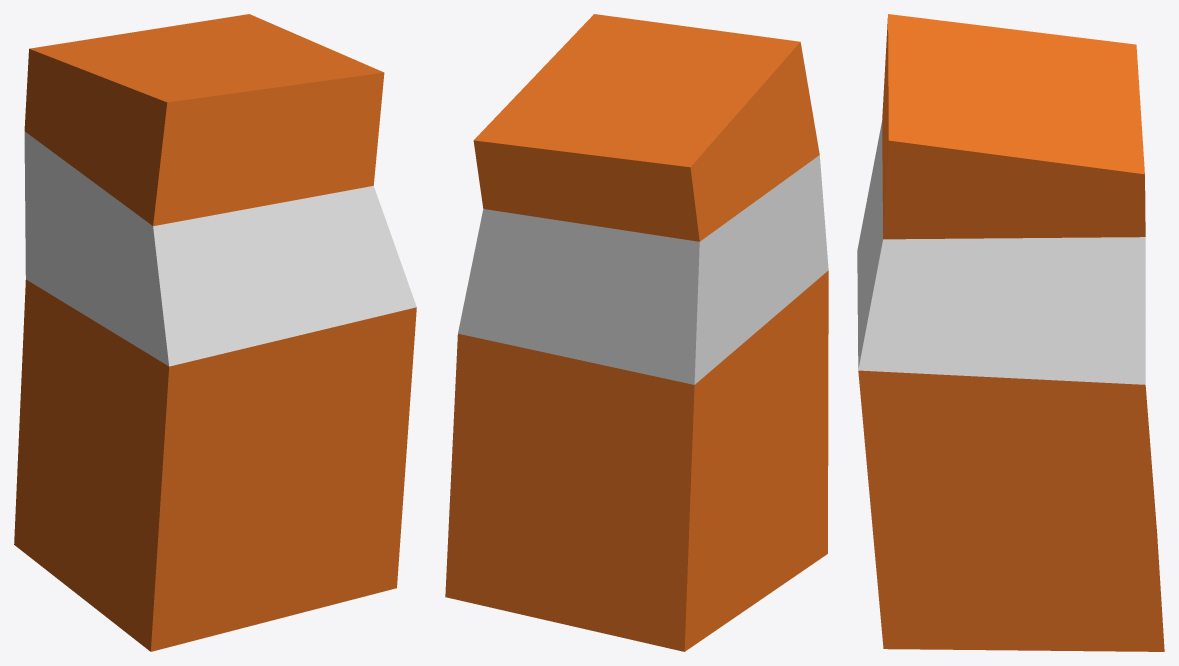
Rendered from DesertRock02.glb.
3 renders of one model, left to right at view 1: azimuth 30°, elevation 25°; view 2: azimuth 150°, elevation 25°; view 3: azimuth 270°, elevation 25°, orthographic. The views are drawn at different scales.
Parts seen in each view (by area): view 1: DesertRock02; view 2: DesertRock02; view 3: DesertRock02.
Part boxes in pixels (left/top/right/bottom): DesertRock02: left=14, top=14, right=416, bottom=651; DesertRock02: left=445, top=14, right=828, bottom=651; DesertRock02: left=857, top=14, right=1164, bottom=651.
Bounding box in the file's own units: 2.01 × 4.03 × 2.13.
Materials: 1 (1 with a texture image).
